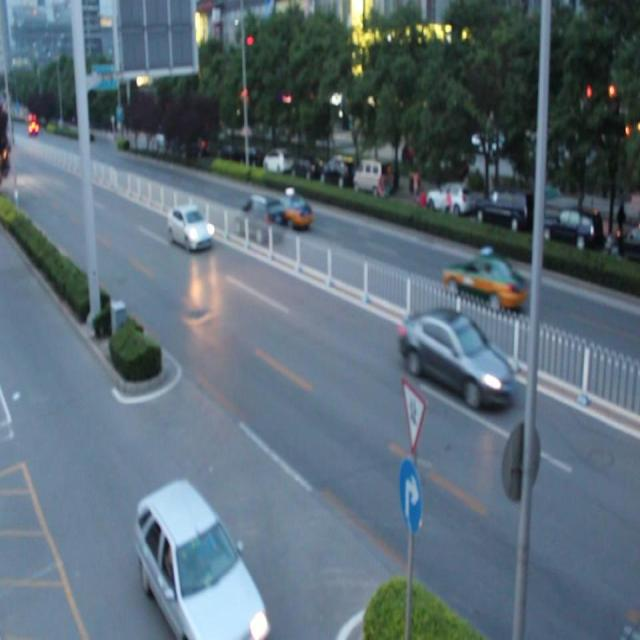car: (136, 479, 268, 640), (399, 307, 514, 408), (441, 253, 525, 312), (235, 197, 284, 242), (168, 204, 214, 250), (272, 193, 312, 230)
